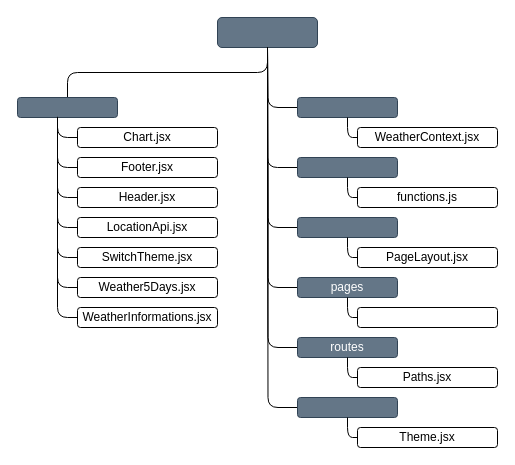
Image size: 515x465. Some labels were removed from this diagram. The box of each missing label's shape, as (x1, y1, x2, y2) in pixels:
components: (16, 96, 118, 118)
context: (296, 96, 398, 118)
functions: (296, 156, 398, 178)
HomePage.jsx: (356, 306, 498, 328)
layout: (296, 216, 398, 238)
SRC: (216, 16, 318, 48)
theme: (296, 396, 398, 418)
